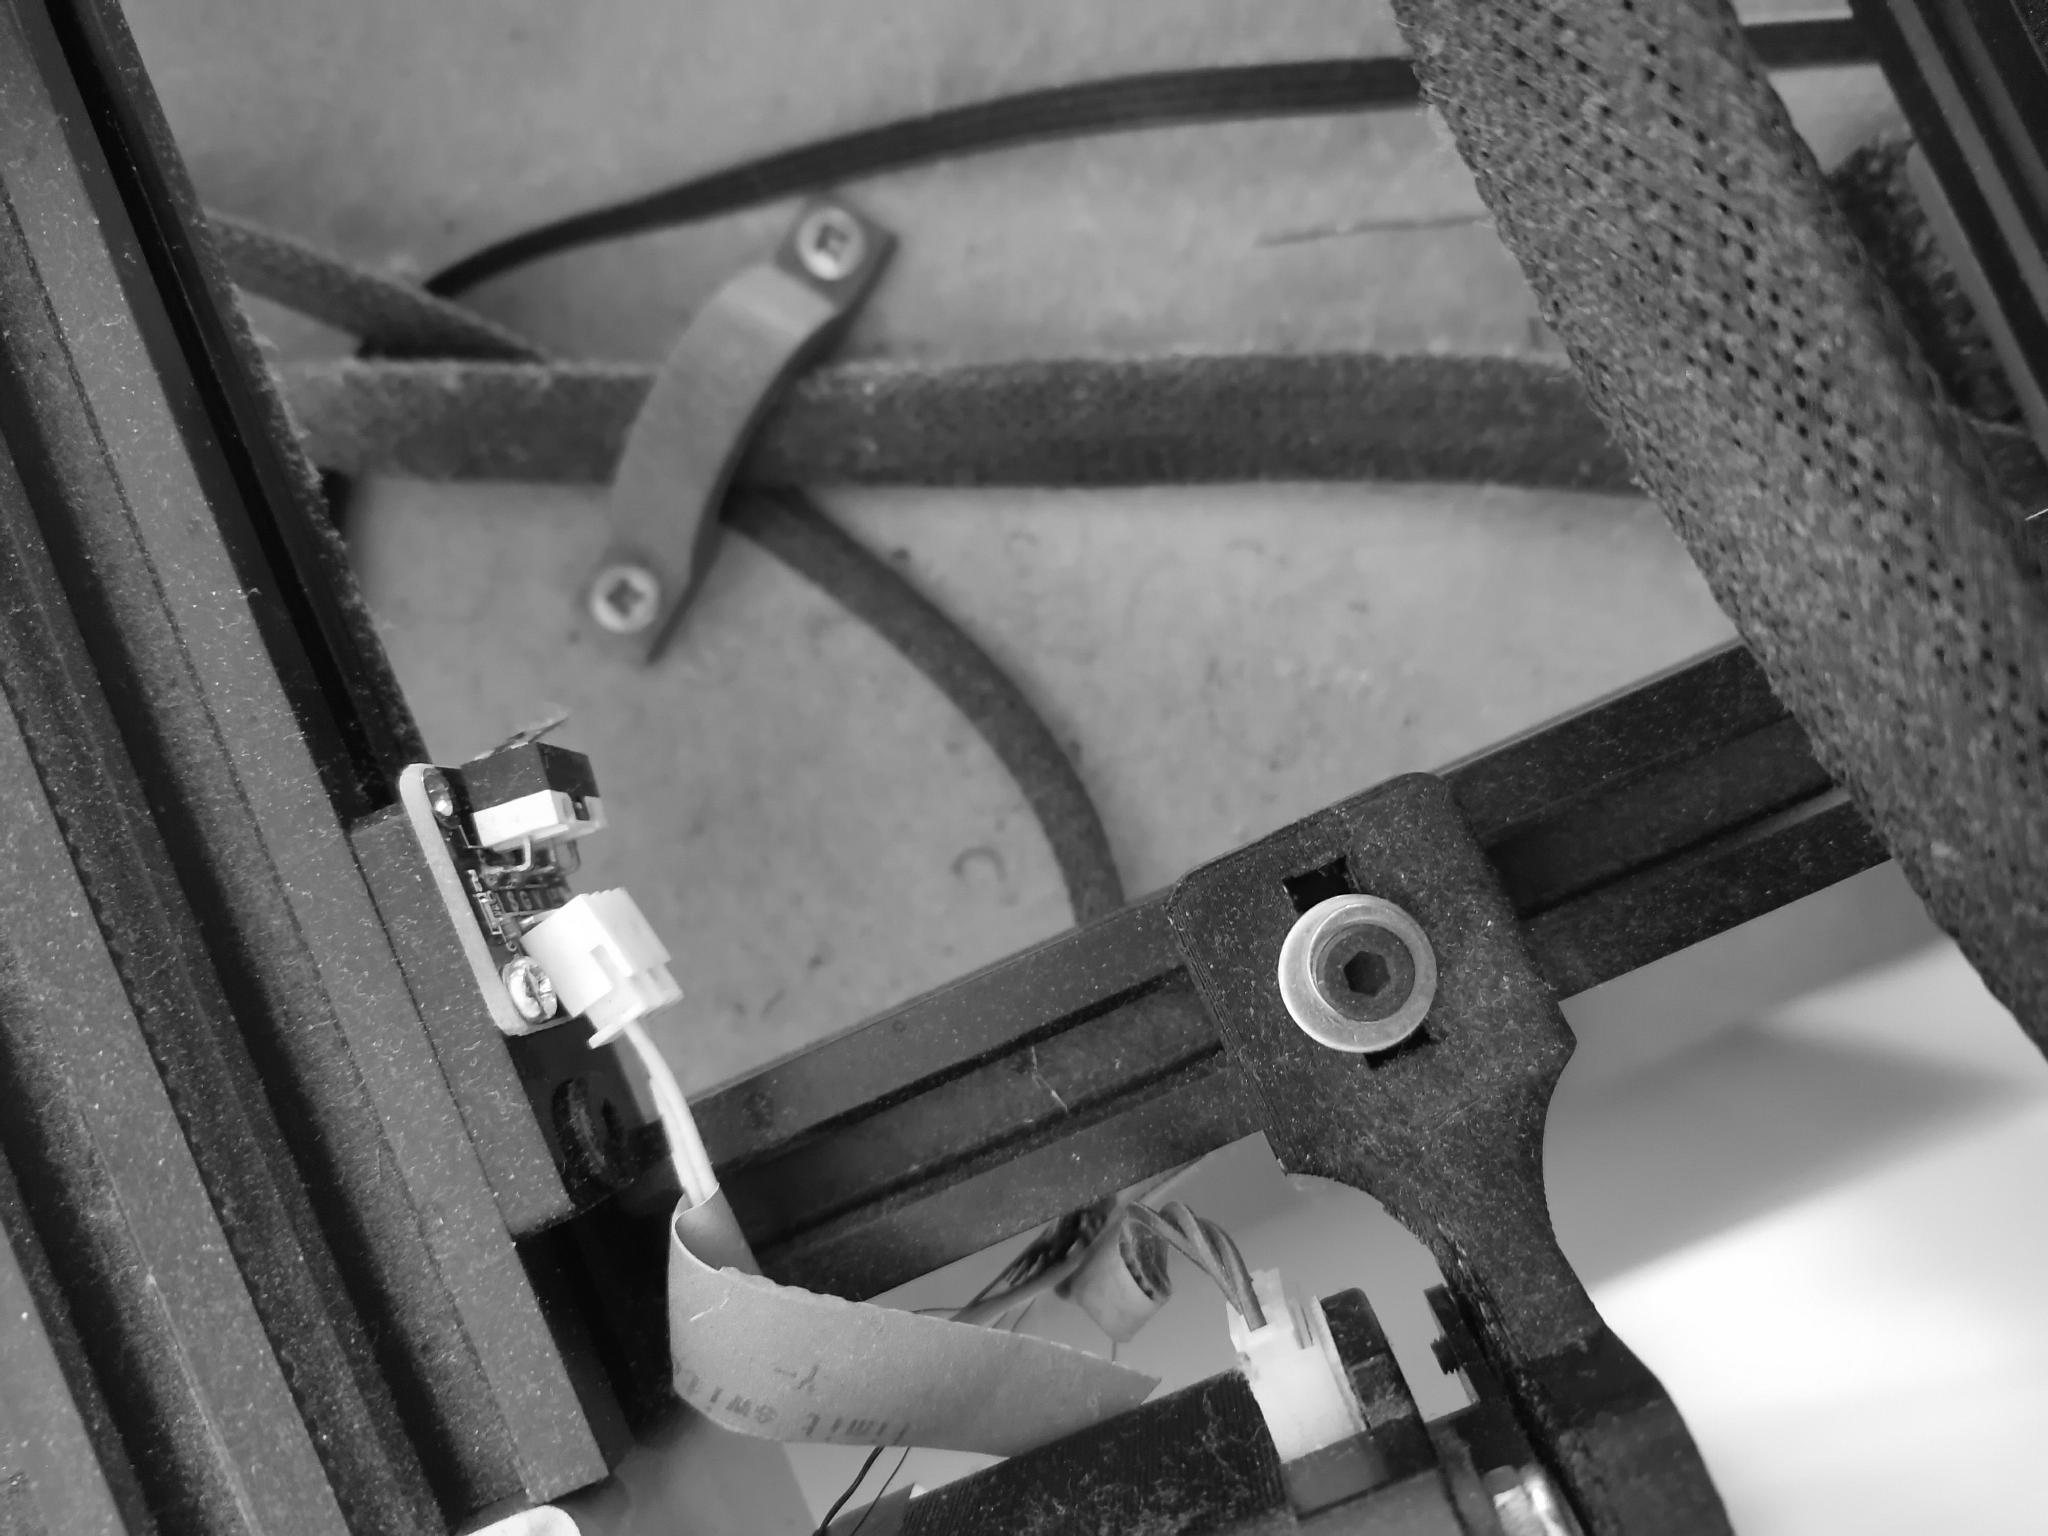allen: (1306, 923, 1421, 1023)
philips-PZ: (795, 200, 869, 281), (590, 560, 661, 634)
